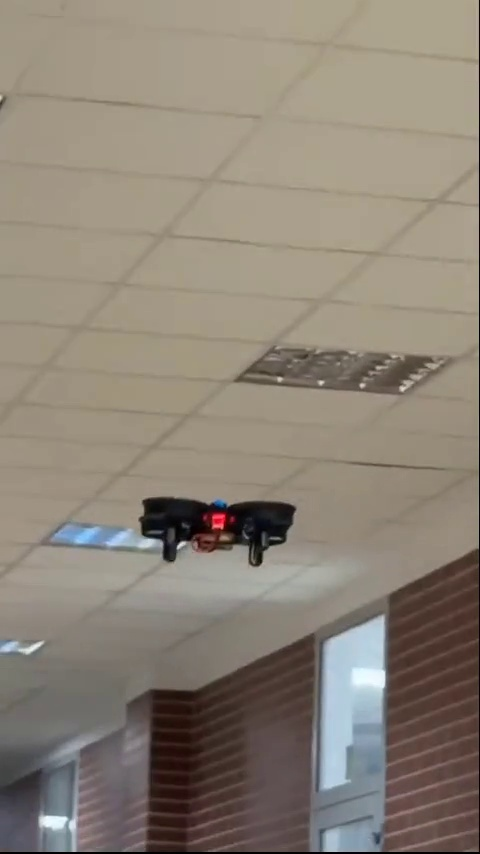drone: (143, 494, 295, 571)
